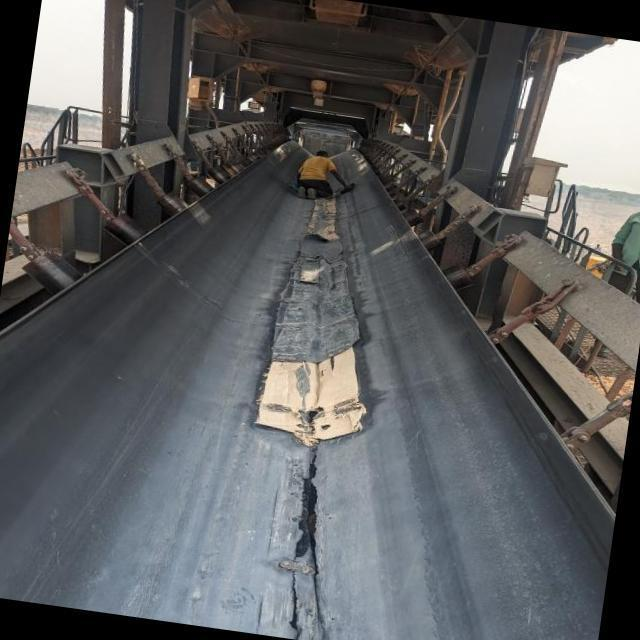Tear: (288, 441, 327, 640), (286, 570, 306, 639)
